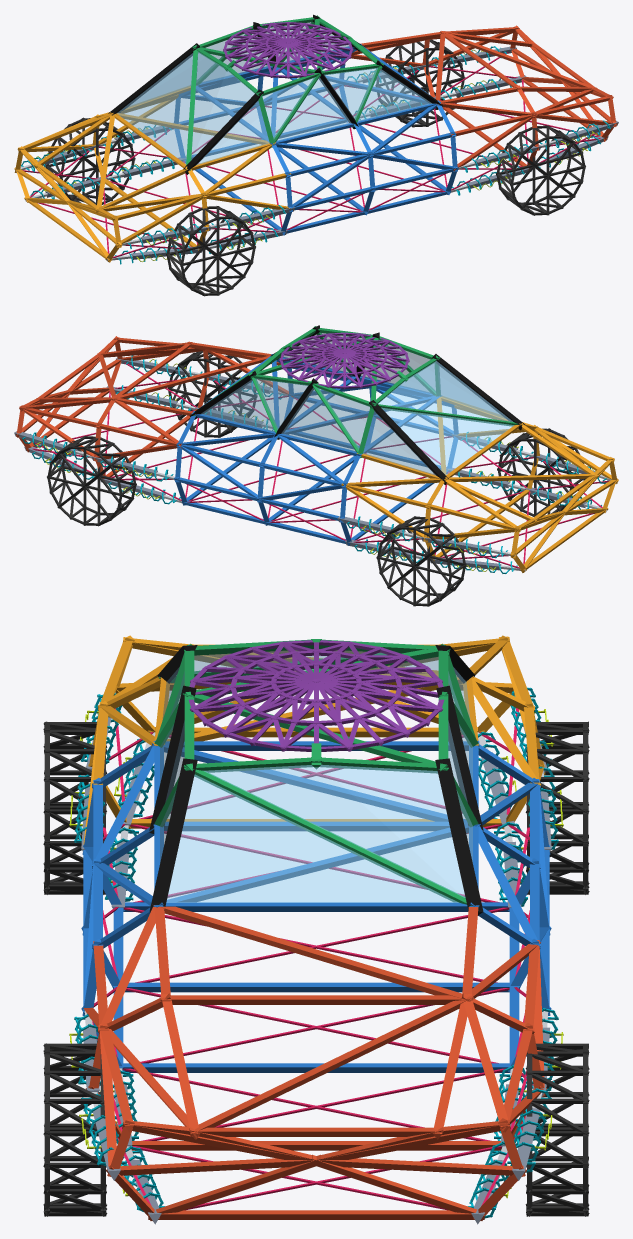
File: DCM7_design1_truss_v7.obj
3 renders of one model, top to bottom at view 1: azimuth 30°, elevation 25°; view 2: azimuth 150°, elevation 25°; view 3: azimuth 270°, elevation 25°, orthographic. The views are drawn at different scales.
Parts seen in each view (by area): view 1: glass, passenger_core, rear_zone, front_zone, damper_sleeve, roof_radial_disc, tension_fibres, cabin_truss, wheel_RR, wheel_FR, spring_coils, stiff_pillars (+4 smaller); view 2: glass, passenger_core, rear_zone, front_zone, damper_sleeve, roof_radial_disc, tension_fibres, cabin_truss, wheel_FL, wheel_RL, spring_coils, stiff_pillars (+4 smaller); view 3: front_zone, glass, passenger_core, roof_radial_disc, rear_zone, cabin_truss, tension_fibres, spring_coils, stiff_pillars, wheel_FR, wheel_FL, wheel_RR (+3 smaller).
Part boxes in pixels (<box>): glass: <box>117,22,431,165</box>; passenger_core: <box>173,44,458,235</box>; rear_zone: <box>14,86,293,262</box>; front_zone: <box>351,25,617,171</box>; damper_sleeve: <box>37,46,618,259</box>; roof_radial_disc: <box>223,22,353,78</box>; tension_fibres: <box>22,52,600,257</box>; cabin_truss: <box>186,15,383,172</box>; wheel_RR: <box>166,206,255,296</box>; wheel_FR: <box>496,125,585,215</box>; spring_coils: <box>21,46,610,264</box>; stiff_pillars: <box>108,14,442,174</box>; glass: <box>201,333,513,475</box>; passenger_core: <box>174,354,458,545</box>; rear_zone: <box>341,396,618,572</box>; front_zone: <box>16,336,293,480</box>; damper_sleeve: <box>14,357,595,570</box>; roof_radial_disc: <box>279,332,409,389</box>; tension_fibres: <box>32,362,609,568</box>; cabin_truss: <box>191,326,517,457</box>; wheel_FL: <box>47,435,136,526</box>; wheel_RL: <box>376,516,466,606</box>; spring_coils: <box>22,355,607,573</box>; stiff_pillars: <box>190,325,525,485</box>; front_zone: <box>83,905,547,1220</box>; glass: <box>160,649,472,902</box>; passenger_core: <box>81,740,551,1072</box>; roof_radial_disc: <box>188,640,444,751</box>; rear_zone: <box>83,635,545,844</box>; cabin_truss: <box>154,639,478,905</box>; tension_fibres: <box>92,708,533,1210</box>; spring_coils: <box>74,687,558,1218</box>; stiff_pillars: <box>149,645,483,915</box>; wheel_FR: <box>43,1043,107,1216</box>; wheel_FL: <box>525,1043,589,1216</box>; wheel_RR: <box>43,721,107,894</box>.
Size of the model in its own units: 4.56 by 1.48 by 2.15.
